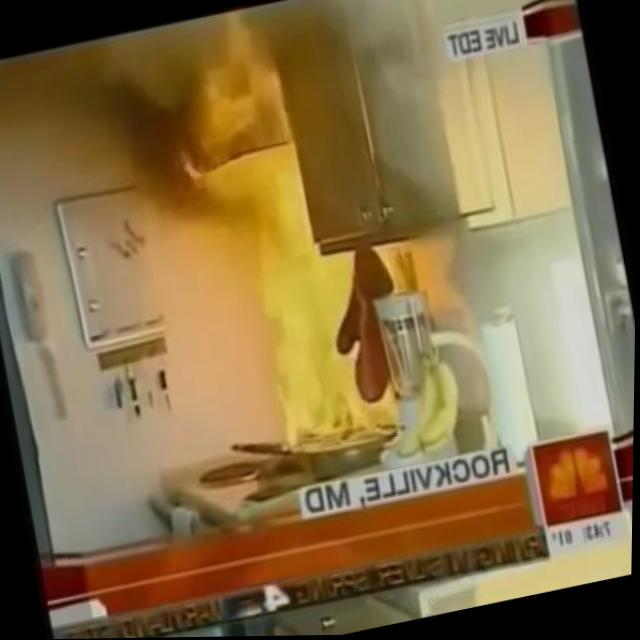fire: (165, 6, 429, 459)
